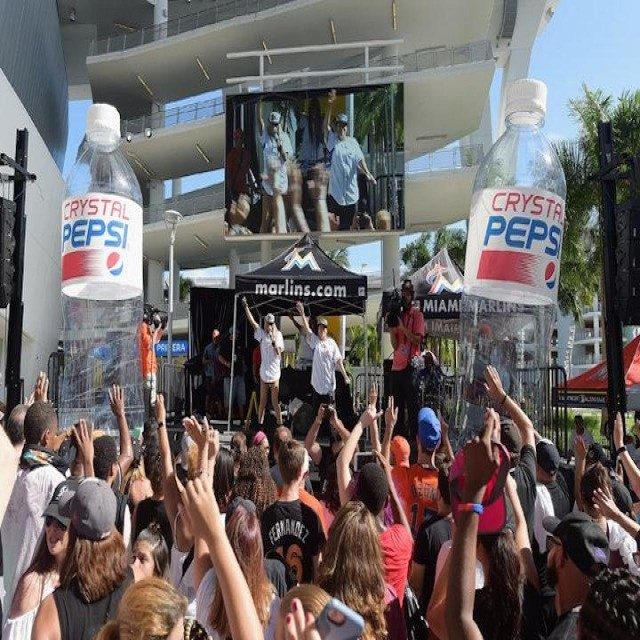pepsi: (543, 258, 562, 292), (107, 250, 125, 281)
